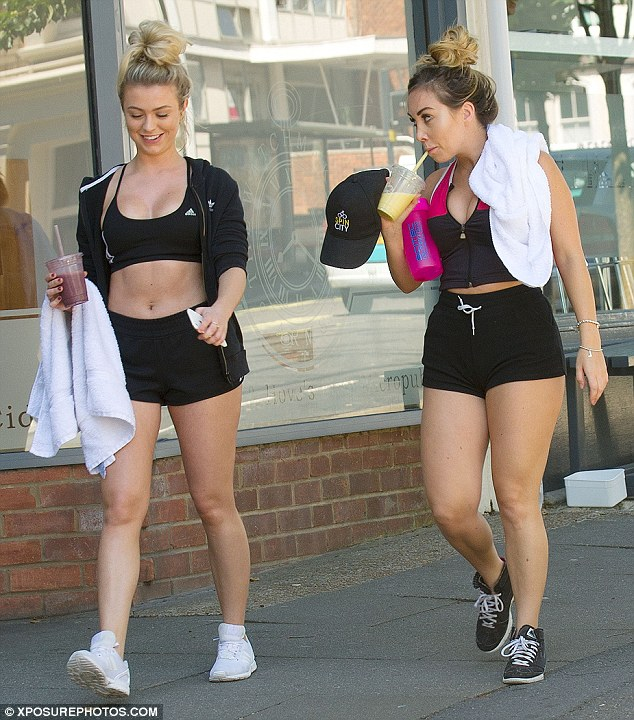Person: (310, 24, 612, 689), (28, 16, 273, 697)
